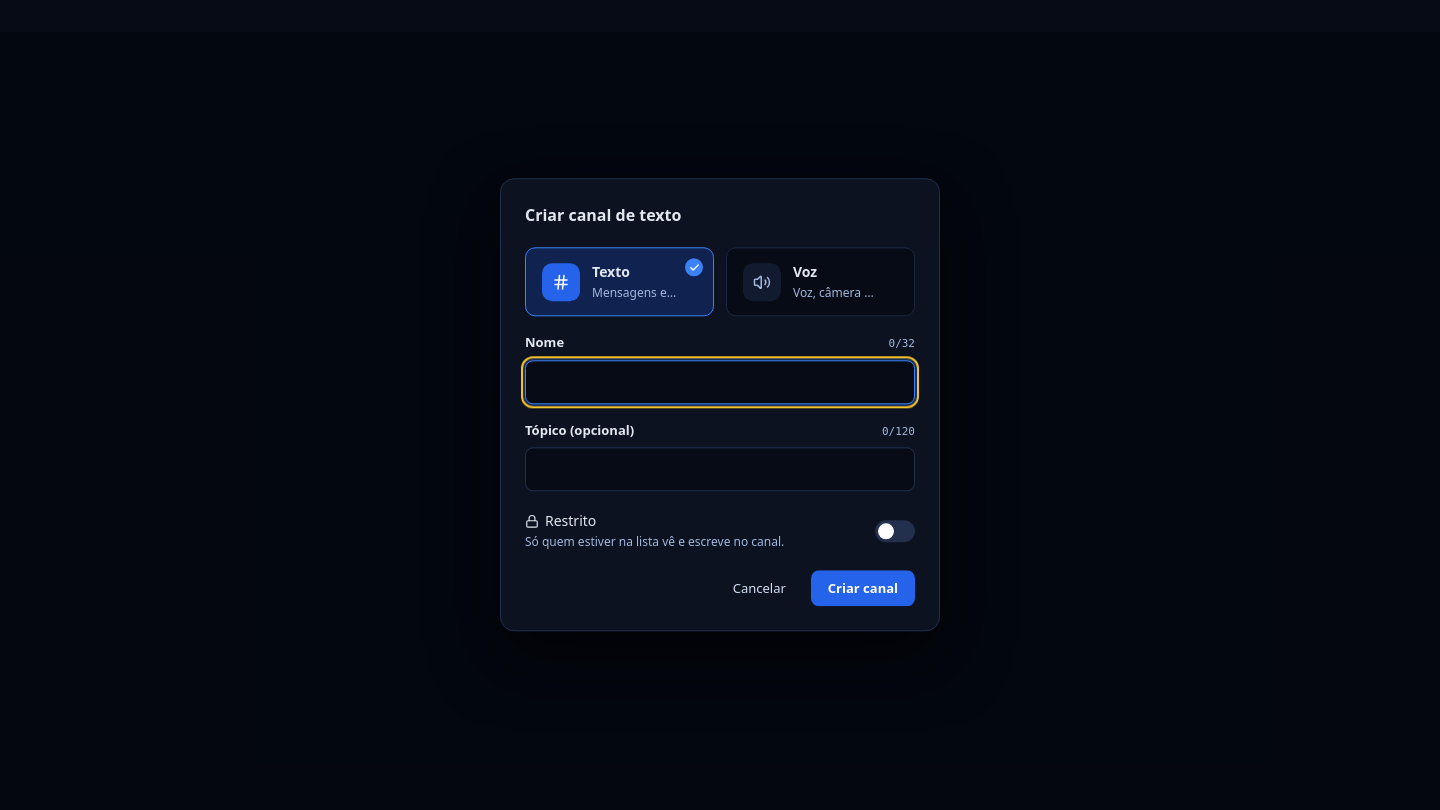
os diálogos de canais › Criar canal manda o nome e a categoria e abre o canal novo
Later steps or results of the test are not shown.
Type "Jogos Online" into the field labelled "Nome".
click(720, 382); type("Jogos Online")  # box [525,360,915,404]
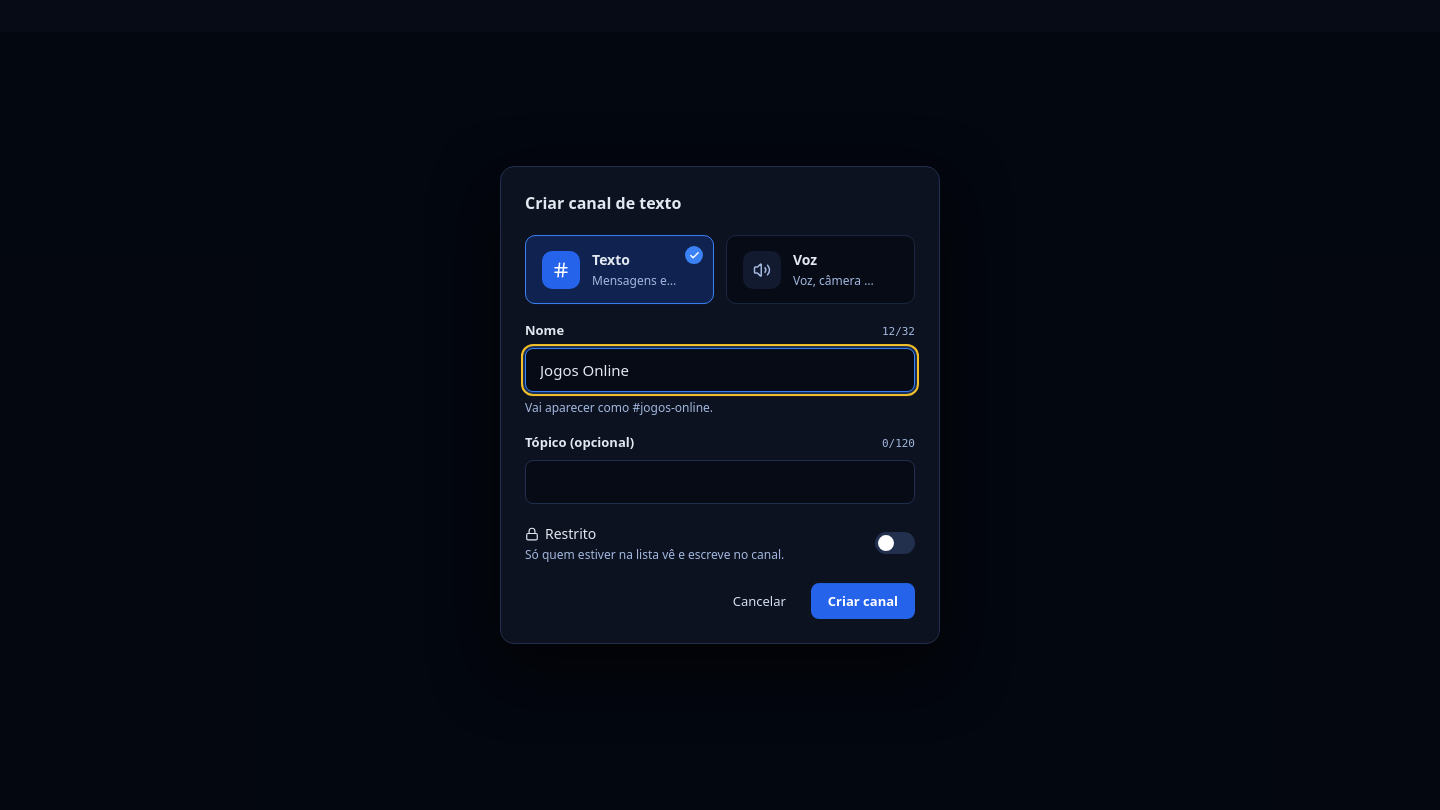
Expected: the text "Vai aparecer como #jogos-online." is shown, [525,399,713,416]
